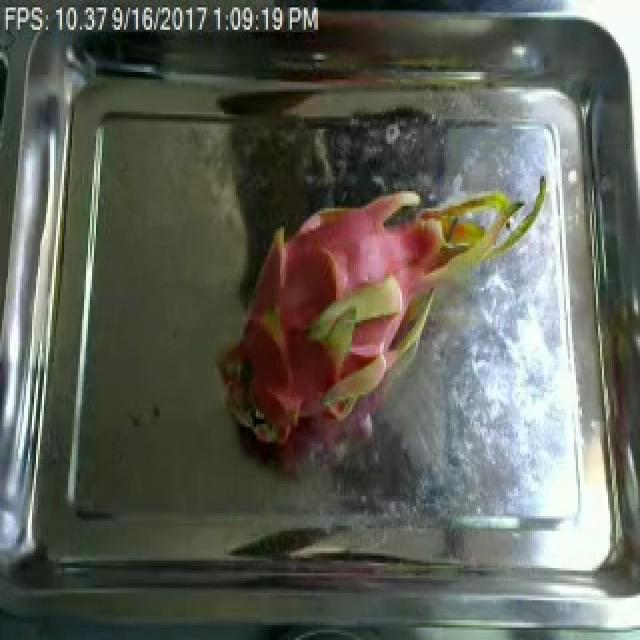fruit: (208, 129, 560, 469)
